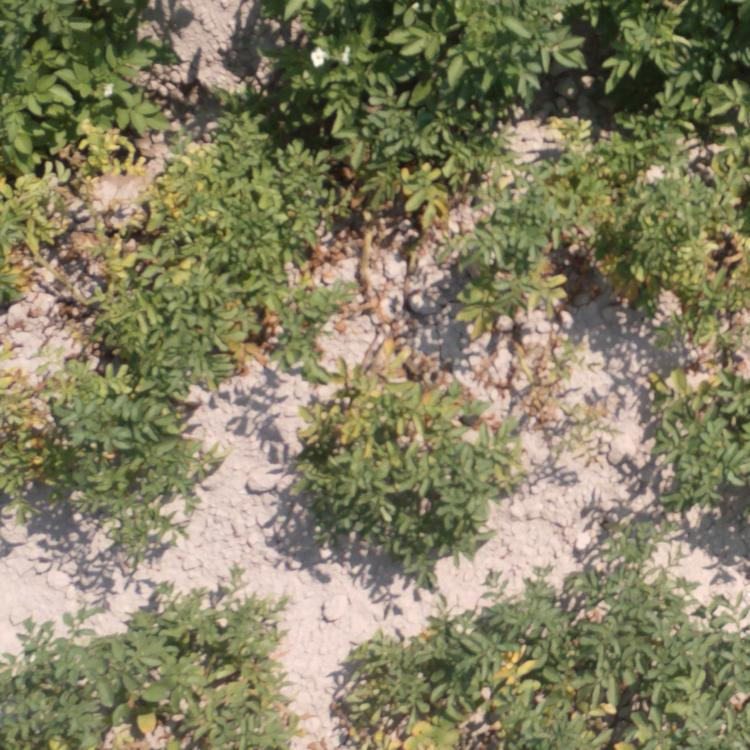healthy: (277, 1, 558, 103), (613, 578, 744, 750), (1, 1, 155, 85)
stressed: (3, 104, 312, 377), (319, 102, 622, 331), (619, 7, 750, 491), (344, 580, 604, 750), (4, 622, 289, 750), (310, 358, 501, 537), (1, 375, 191, 532)
